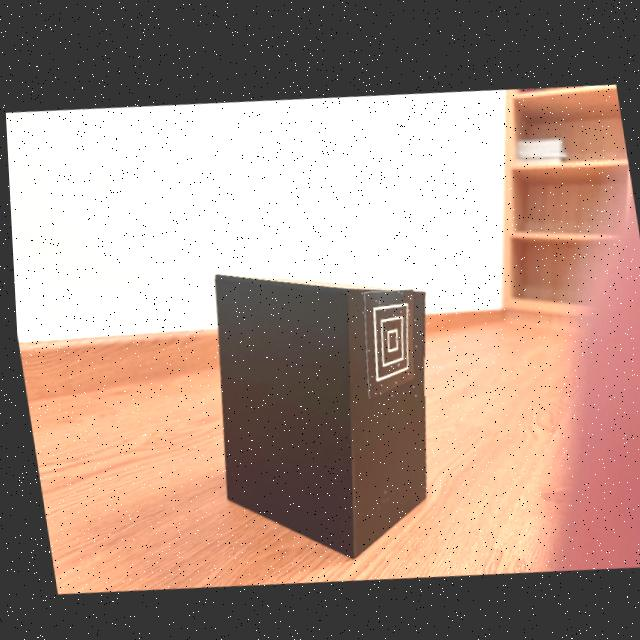BULLSEYE: (362, 283, 411, 394)
